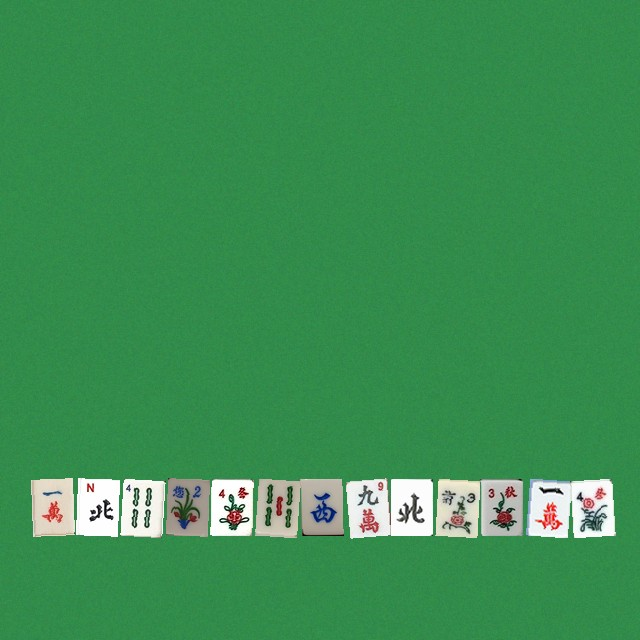tile: (30, 478, 72, 535), (75, 478, 117, 535), (120, 478, 162, 535), (165, 478, 207, 535), (210, 478, 252, 535), (255, 478, 297, 535), (300, 478, 342, 535), (345, 478, 387, 535), (390, 478, 432, 535), (435, 478, 477, 535), (480, 478, 522, 535), (525, 478, 567, 535), (570, 478, 612, 535)
